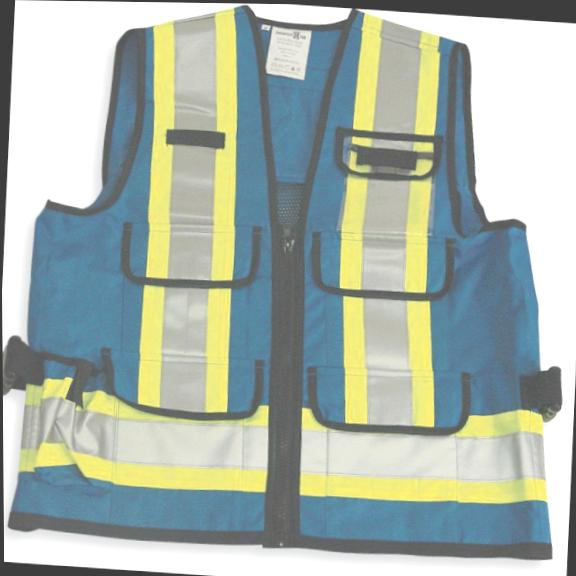safety_vest: (2, 0, 576, 566)
